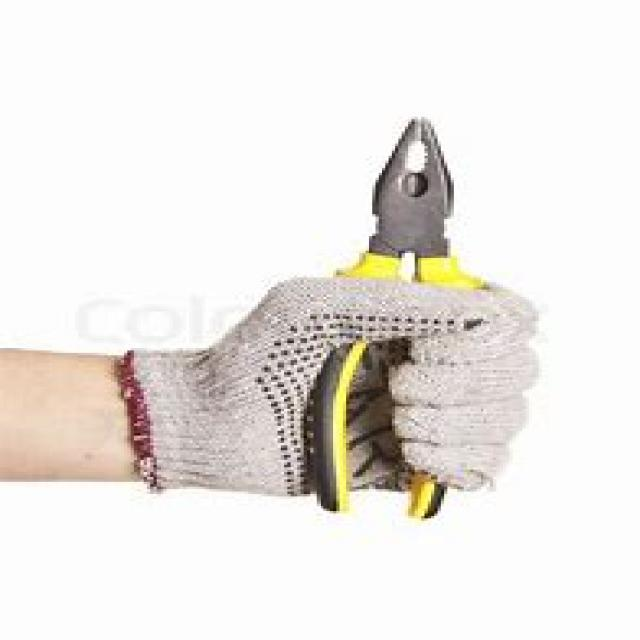pliers: (286, 111, 476, 528)
